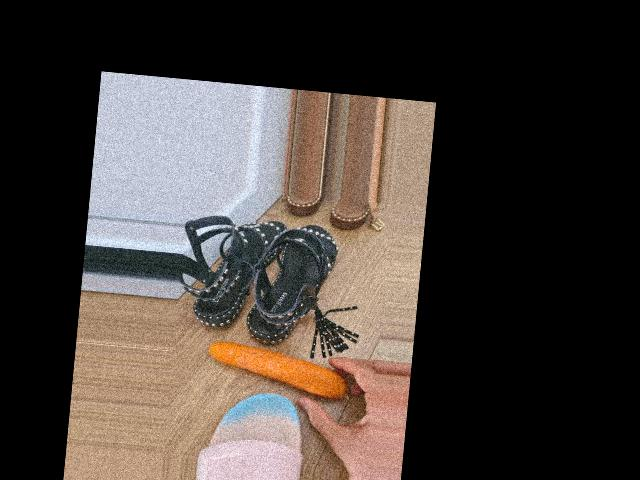carrot: (204, 339, 349, 400)
